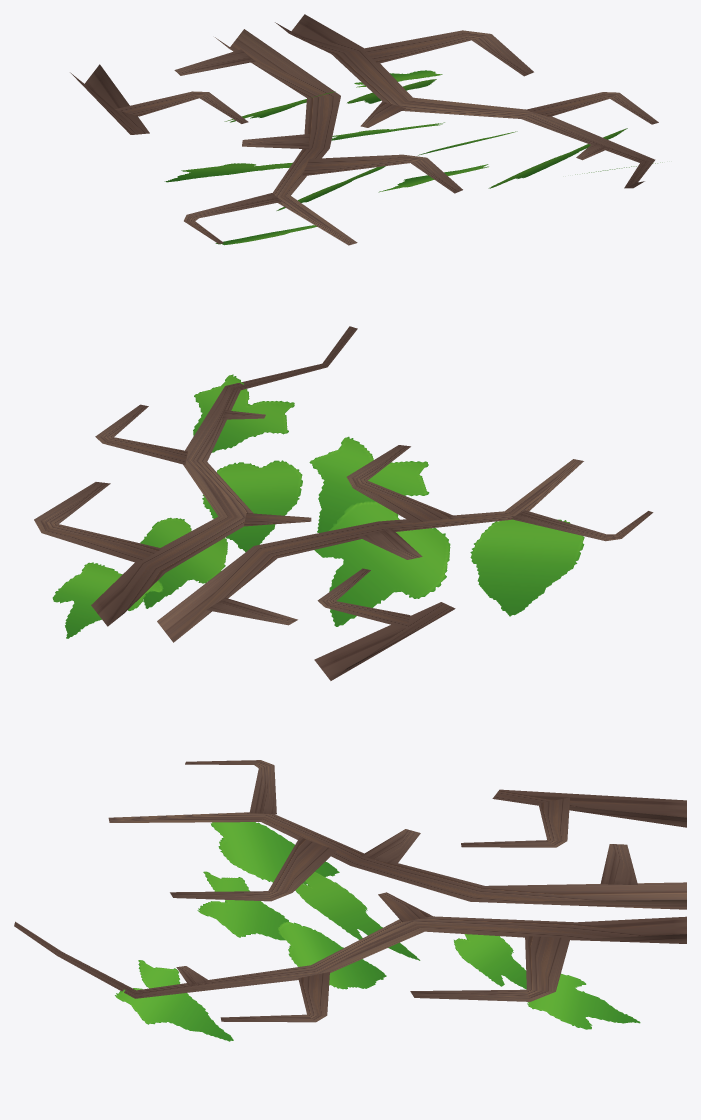
Rendered from ivy_wall_x3_01.glb.
3 views of the same model, one above another, from view 1: azimuth 30°, elevation 25°; view 2: azimuth 150°, elevation 25°; view 3: azimuth 270°, elevation 25° (orthographic). The views are drawn at different scales.
Parts seen in each view (by area): view 1: generic.ivy_wall_x3_01-MeshNodes["vine_base02"], generic.ivy_wall_x3_01-MeshNodes["ivy_leaf_27"]; view 2: generic.ivy_wall_x3_01-MeshNodes["ivy_leaf_27"], generic.ivy_wall_x3_01-MeshNodes["vine_base02"]; view 3: generic.ivy_wall_x3_01-MeshNodes["vine_base02"], generic.ivy_wall_x3_01-MeshNodes["ivy_leaf_27"].
Part boxes in pixels (left/top/right/bottom): generic.ivy_wall_x3_01-MeshNodes["vine_base02"]: left=70, top=14, right=658, bottom=245; generic.ivy_wall_x3_01-MeshNodes["ivy_leaf_27"]: left=164, top=70, right=662, bottom=245; generic.ivy_wall_x3_01-MeshNodes["ivy_leaf_27"]: left=52, top=374, right=584, bottom=638; generic.ivy_wall_x3_01-MeshNodes["vine_base02"]: left=34, top=326, right=653, bottom=680; generic.ivy_wall_x3_01-MeshNodes["vine_base02"]: left=14, top=760, right=686, bottom=1022; generic.ivy_wall_x3_01-MeshNodes["ivy_leaf_27"]: left=115, top=822, right=640, bottom=1041.
Size of the model in its own units: 3.53 by 0.8824 by 3.27.
Materials: 2 (2 with a texture image).
